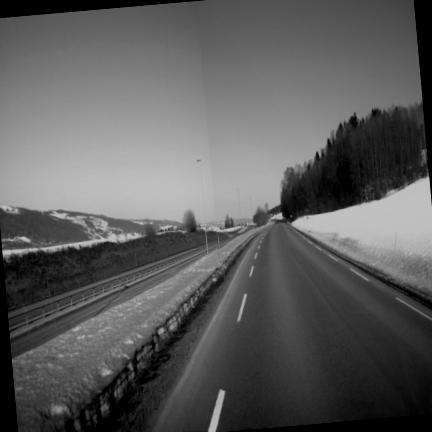Road: (147, 224, 431, 431)
